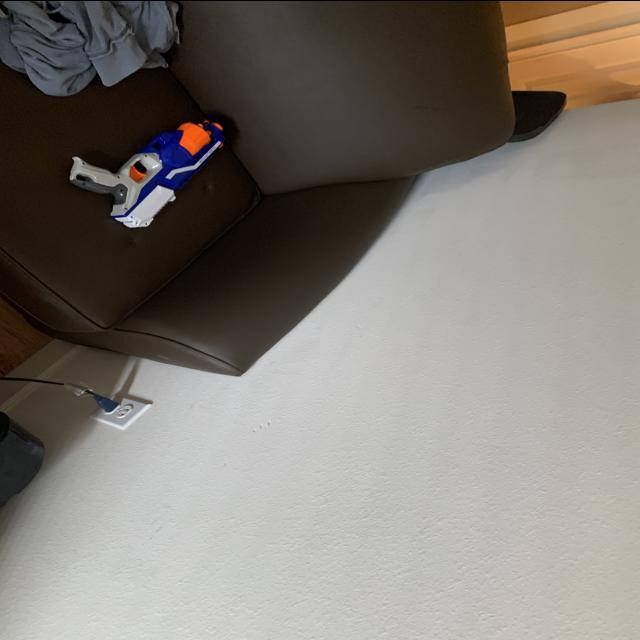nerf-maverik: (55, 110, 236, 236)
